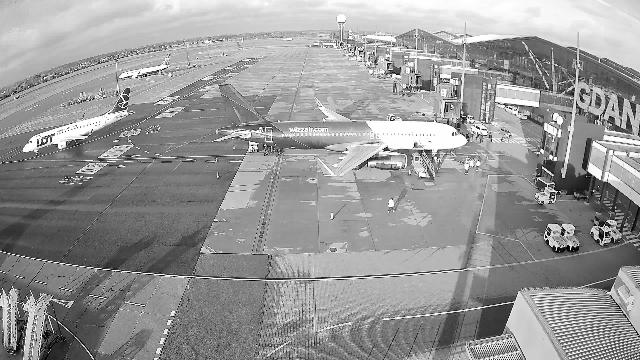Aircraft: (212, 84, 467, 176), (22, 87, 136, 156), (118, 53, 171, 79)
Airport_Tractor: (543, 224, 568, 253), (560, 224, 580, 252), (590, 226, 612, 246), (534, 186, 557, 205), (603, 220, 622, 243), (386, 114, 402, 121)
Baggage_Trolley: (536, 176, 555, 192), (574, 188, 588, 200)
Conveyor_Belt: (410, 151, 436, 178), (417, 106, 438, 116)
Ground_Crew: (388, 197, 395, 213), (464, 163, 470, 175), (437, 157, 441, 170), (476, 160, 480, 172)
Passengers: (507, 133, 511, 142), (489, 132, 492, 142), (466, 132, 469, 142), (480, 134, 483, 143), (470, 133, 473, 142), (475, 134, 477, 142)
